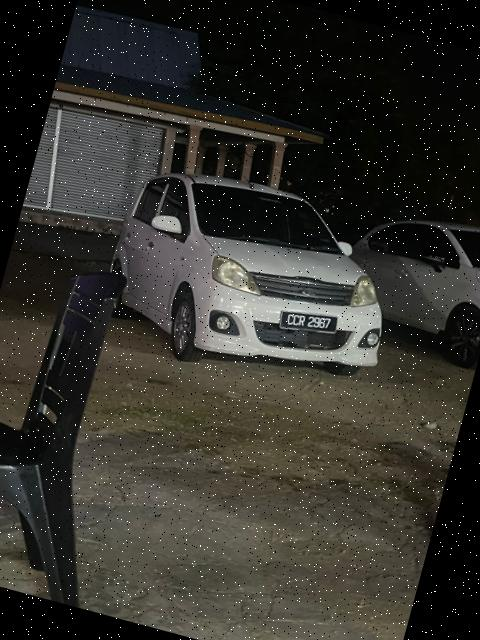License_Plate: (276, 301, 336, 347)
car: (104, 146, 422, 409)
